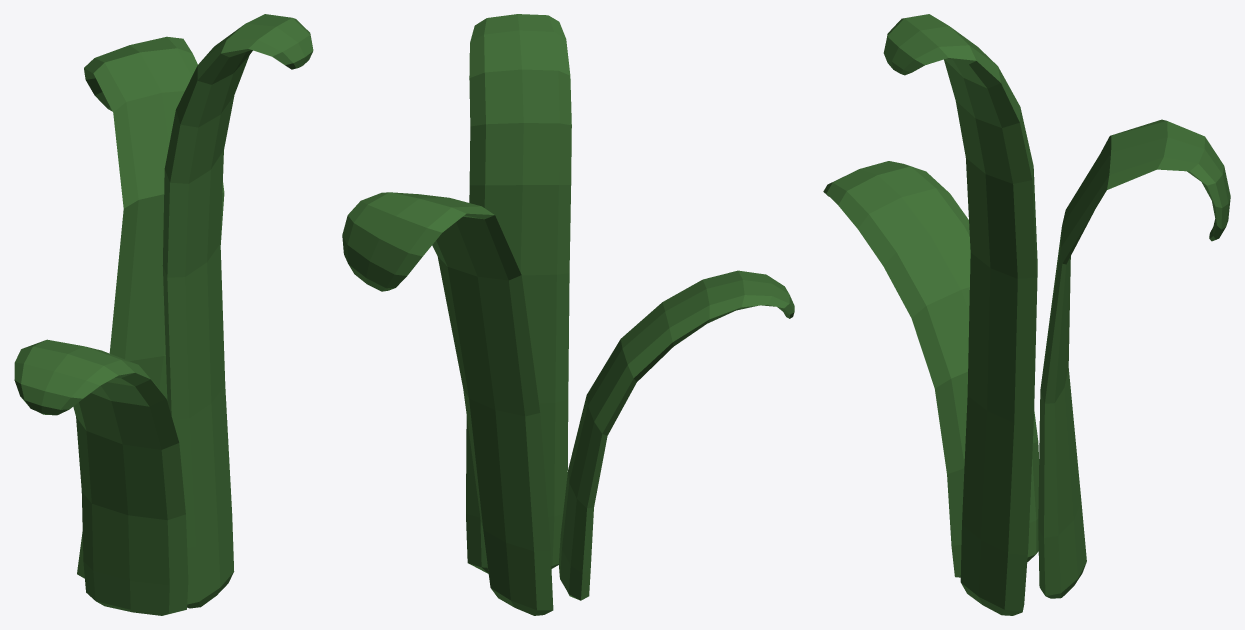
File: grass2.gltf
3 views of the same model, side by side, from view 1: azimuth 30°, elevation 25°; view 2: azimuth 150°, elevation 25°; view 3: azimuth 270°, elevation 25° (orthographic). The views are drawn at different scales.
Parts seen in each view (by area): view 1: Cube.004, Cube.003, Cube.002; view 2: Cube.002, Cube.004, Cube.003; view 3: Cube.004, Cube.003, Cube.002.
Part boxes in pixels (bbox=[...]): Cube.004: bbox=[162, 14, 313, 608]; Cube.003: bbox=[14, 339, 188, 615]; Cube.002: bbox=[77, 36, 224, 578]; Cube.002: bbox=[342, 192, 553, 615]; Cube.004: bbox=[466, 14, 571, 573]; Cube.003: bbox=[558, 270, 794, 600]; Cube.004: bbox=[883, 14, 1037, 615]; Cube.003: bbox=[823, 161, 1039, 577]; Cube.002: bbox=[1038, 119, 1230, 598].
Size of the model in its own units: 3.43 by 5.85 by 3.65.
